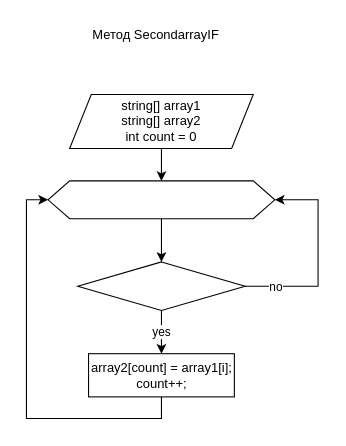
Image size: 346x446. Some labels were removed from this diagram. Here are the shapes that lost their labels. From the top down, the centre of each, then its label:
pixel 161 199: for (int i = 0; i < array1.length; i++)
pixel 161 285: if (array1[i].length <=3)
